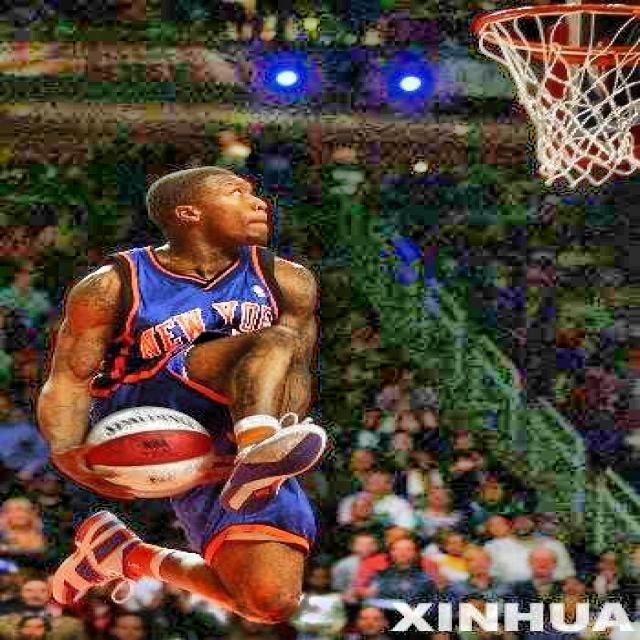rim: (475, 4, 640, 187)
